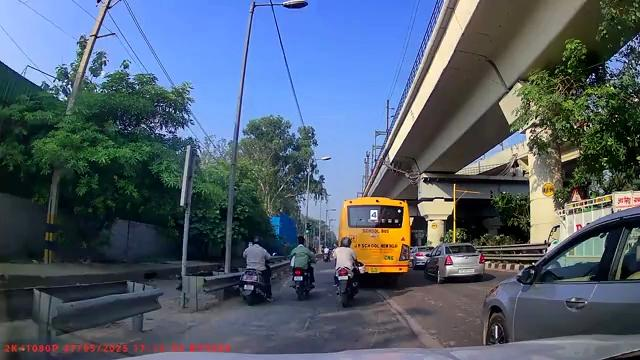motorcycle_with_helmet: (237, 235, 275, 306), (332, 235, 362, 308)
motorcycle_without_helmet: (289, 235, 316, 301)
